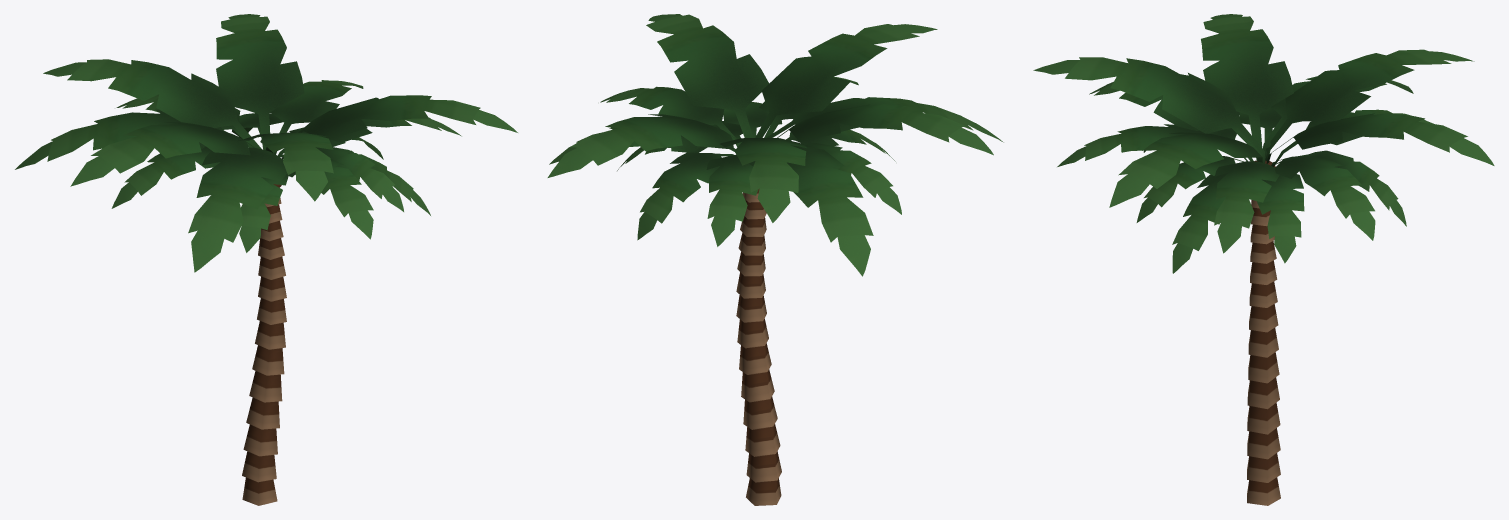
File: PalmTree01.fbx
3 views of the same model, side by side, from view 1: azimuth 30°, elevation 25°; view 2: azimuth 150°, elevation 25°; view 3: azimuth 270°, elevation 25° (orthographic).
Parts seen in each view (by area): view 1: palmtree_LOD0; view 2: palmtree_LOD0; view 3: palmtree_LOD0.
Part boxes in pixels (box(x1,y1,x2,y2)): palmtree_LOD0: box(15, 14, 517, 505); palmtree_LOD0: box(547, 14, 1003, 505); palmtree_LOD0: box(1033, 14, 1494, 505).
Size of what is drawn, in the model's own units: 817 by 816 by 823.
